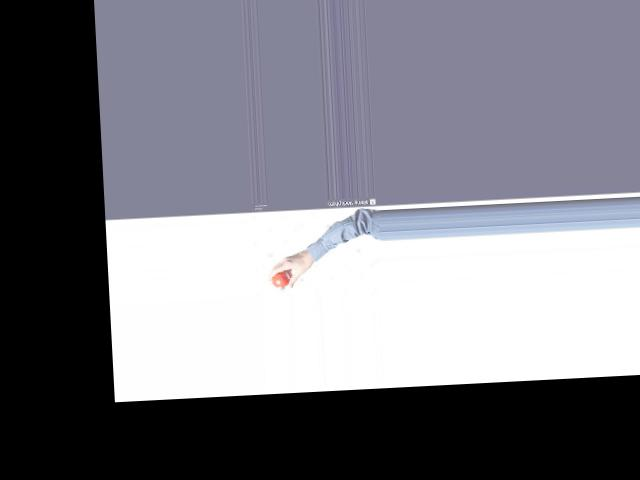tomato: (271, 272, 288, 287)
